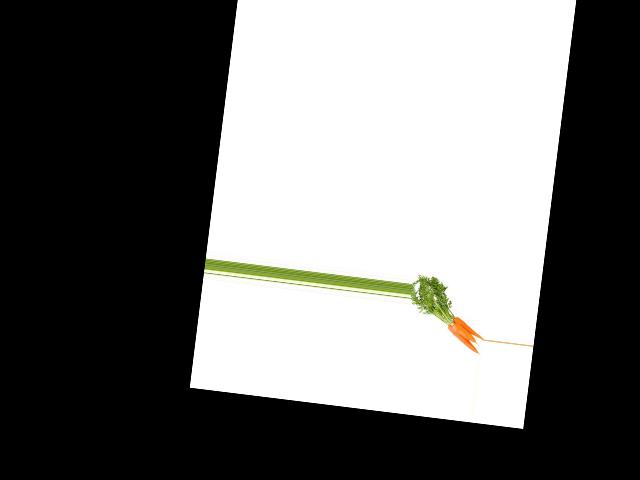carrot: (452, 315, 485, 340)
